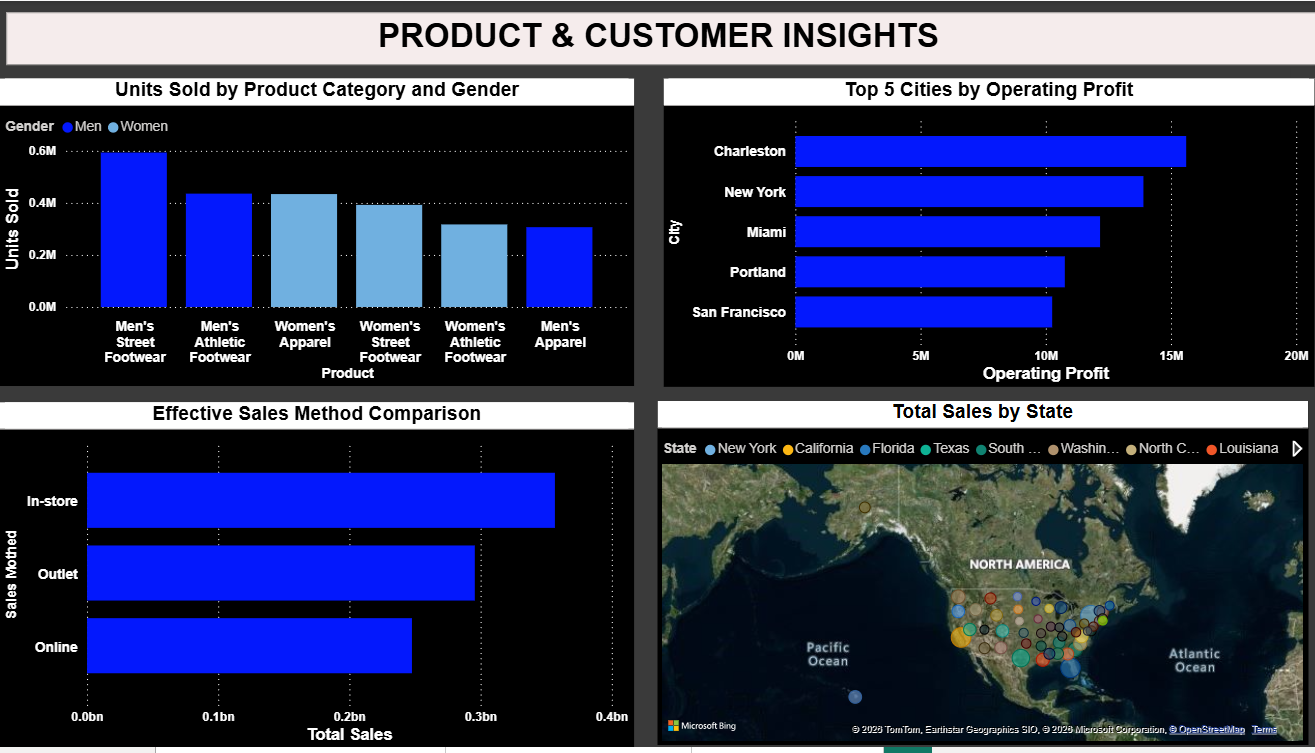

The dashboard page shown, as its layout file describes it:
{"tool":"powerbi","page":{"name":"Product & Customer Insights","canvas":[1280,720],"ordinal":1},"visuals":[{"type":"clusteredBarChart","title":"Effective Sales Method Comparison","fields":{"Category":["Data Sales Adidas.Sales Method"],"Y":["Sum(Data Sales Adidas.Total Sales)"]},"box":[0,387.3,611.7,333],"z":0},{"type":"textbox","box":[6,10.9,1268,50.7],"z":1000},{"type":"columnChart","title":"Units Sold by Product Category and Gender","fields":{"Category":["Data Sales Adidas.Product"],"Series":["Data Sales Adidas.Gender"],"Y":["Sum(Data Sales Adidas.Units Sold)"]},"box":[0,75,611.8,297.1],"z":2000},{"type":"clusteredBarChart","title":"Top 5 Cities by Operating Profit","fields":{"Category":["Data Sales Adidas.City"],"Y":["Sum(Data Sales Adidas.Operating Profit)"]},"box":[640.6,75,627.6,297.2],"z":3000},{"type":"map","title":"Total Sales by State ","fields":{"Category":["Data Sales Adidas.State"],"Series":["Data Sales Adidas.State"],"Size":["Sum(Data Sales Adidas.Total Sales)"]},"box":[634.8,386.7,627.6,331.8],"z":4000}]}

Visuals, with their boxes in screenshot pixels (x1, y1, x2, y2), scaled from the page's 1280x720 canvas onto the 1315x753 screenshot:
"Effective Sales Method Comparison" clusteredBarChart: <region>0, 405, 628, 752</region>
textbox: <region>6, 11, 1309, 64</region>
"Units Sold by Product Category and Gender" columnChart: <region>0, 78, 629, 389</region>
"Top 5 Cities by Operating Profit" clusteredBarChart: <region>658, 78, 1303, 389</region>
"Total Sales by State " map: <region>652, 404, 1297, 751</region>
